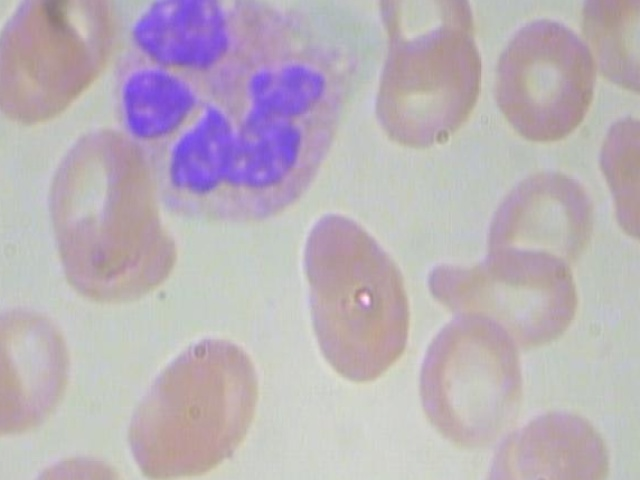RBC: (122, 321, 268, 480), (288, 199, 412, 380), (423, 251, 613, 349), (471, 167, 605, 293), (490, 5, 607, 146), (418, 313, 532, 445), (0, 298, 86, 436), (11, 0, 124, 95), (369, 0, 478, 87), (511, 405, 626, 480)
WBC: (107, 0, 363, 228)
